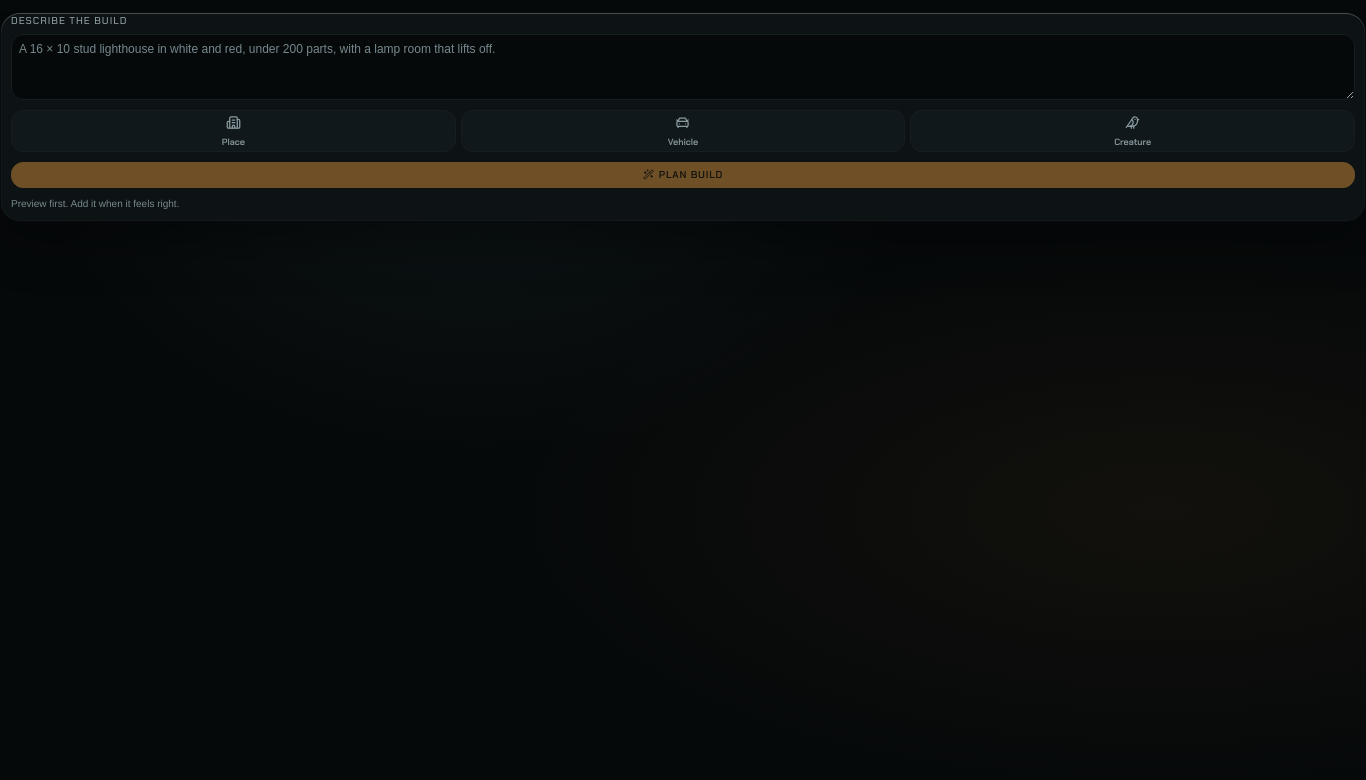
Test: compiling the brief › reports an unreachable route with the reason the fetch gave
Replace the text in the text box named "What should be built" with "a small 8 x 4 stud red kiosk under 90 parts" at [683, 67], box [11,34,1355,100]
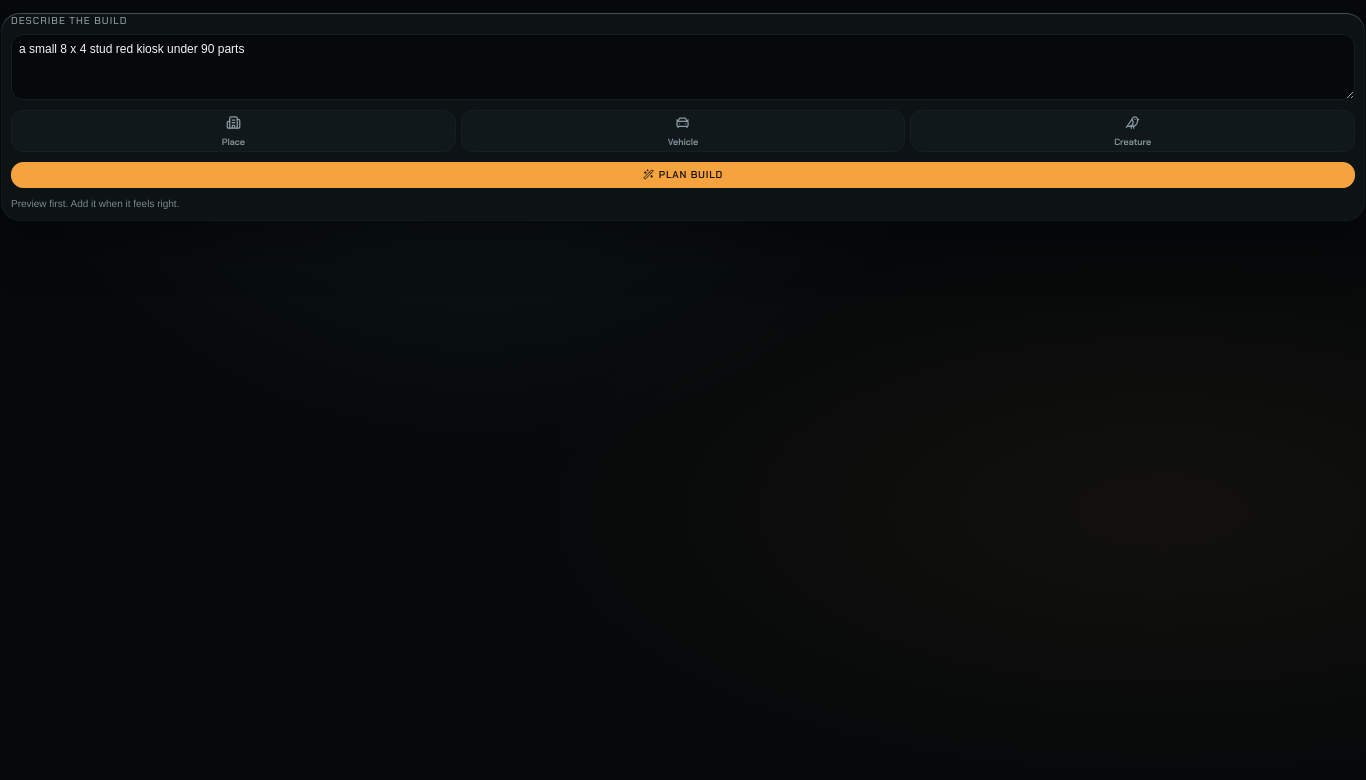
Click the button with aria-label "Compile brief" at [683, 175], box [11,162,1355,188]
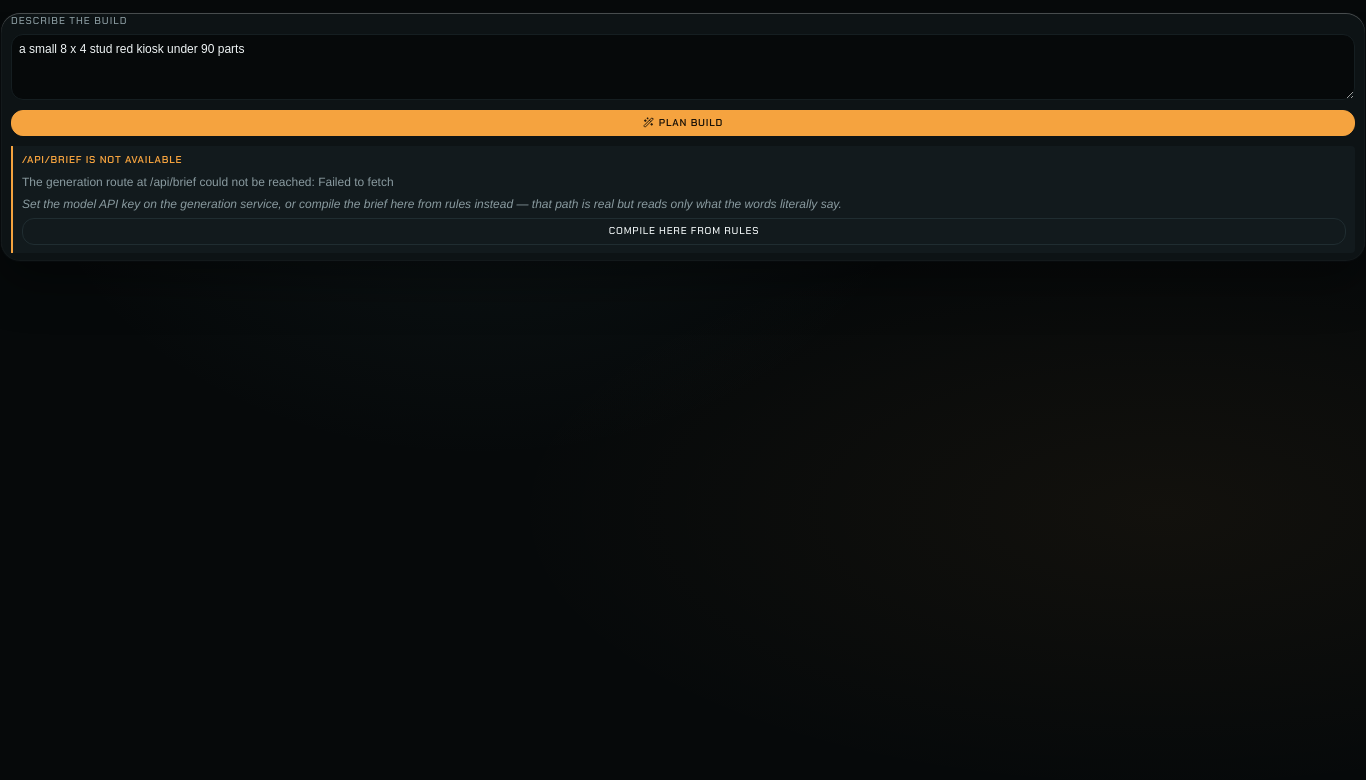
Expected: the text "/api/brief is not available" is shown, [22,154,182,167]
Expected: the text "could not be reached: Failed to fetch" is shown, [22,175,394,189]
